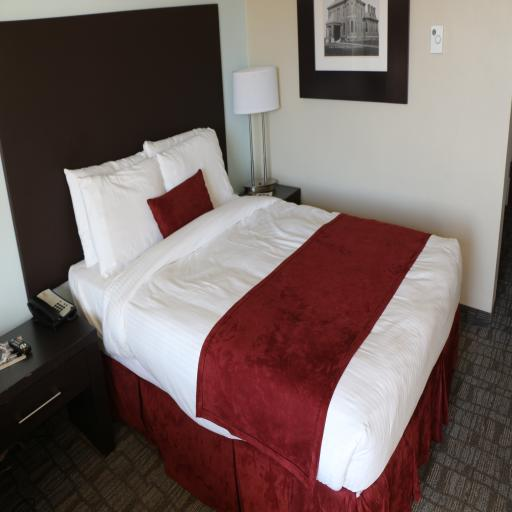bed: (0, 3, 462, 512)
